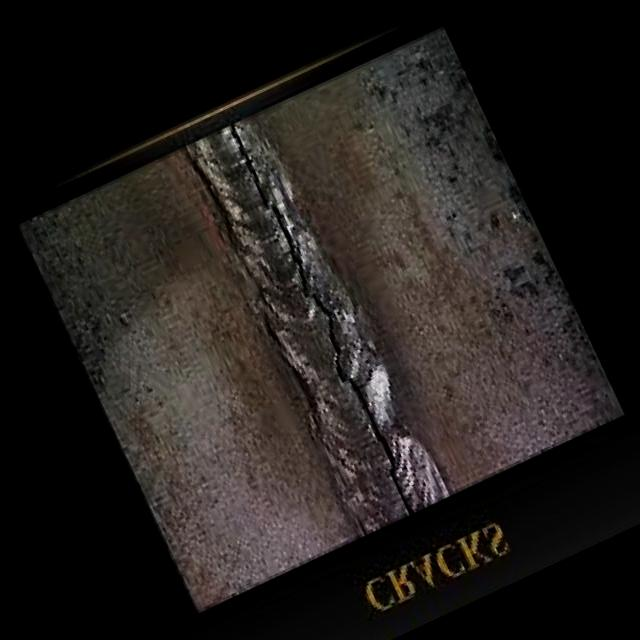defect: (223, 121, 418, 520)
